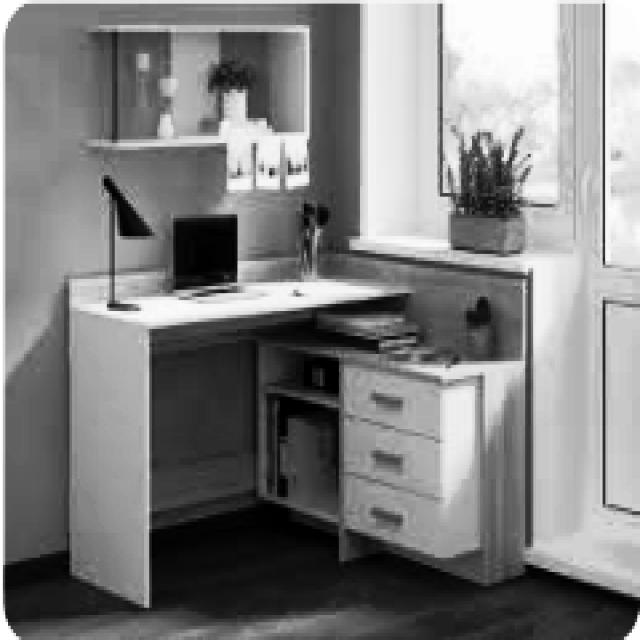table: (64, 254, 531, 608)
